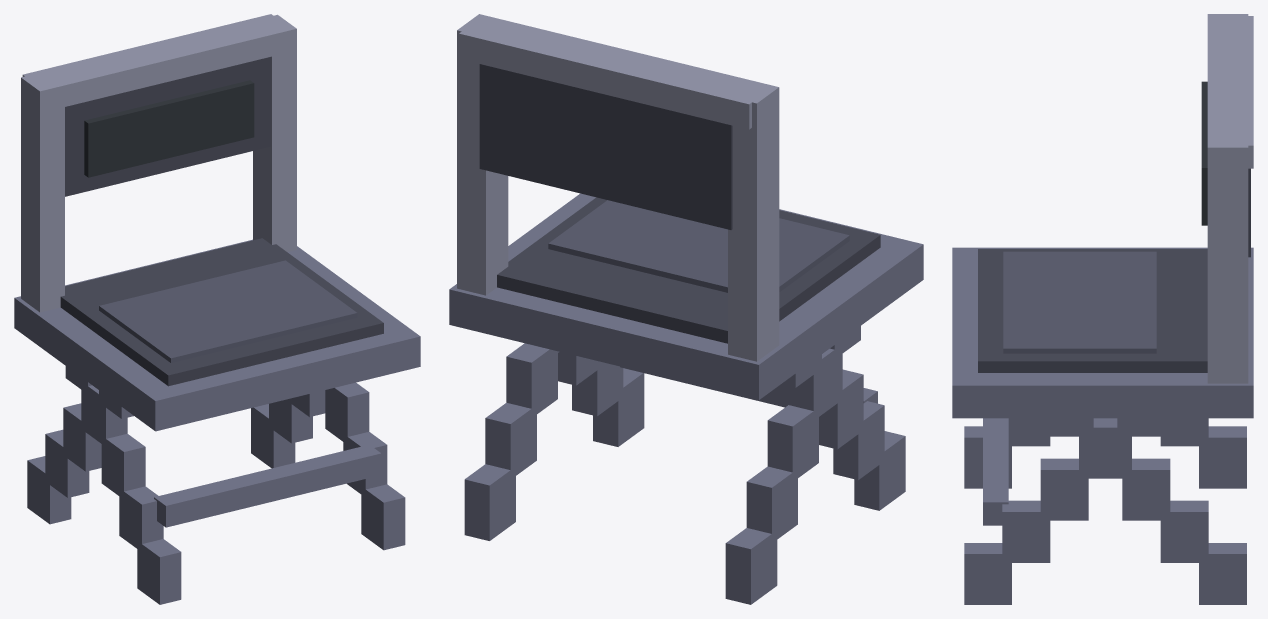
File: CMU3DFoldingChair.glb
The picture shows the model from 3 angles, left to right: view 1: azimuth 30°, elevation 25°; view 2: azimuth 150°, elevation 25°; view 3: azimuth 270°, elevation 25°; orthographic projection. The views are drawn at different scales.
Visible parts, largest first — view 1: stepped folding side rail (×13), seat frame, seat inset sheen, seat inset, back left upright, back inset shadow, back upper trim, back panel, front crossbar, back right upright; view 2: stepped folding side rail (×13), back panel, seat frame, seat inset, back upper trim, back left upright, seat inset sheen, back right upright, front crossbar; view 3: stepped folding side rail (×14), seat frame, seat inset sheen, seat inset, back right upright, back upper trim, front crossbar, back inset shadow, back left upright.
Boxes of the visible parts, bbox=[...] form: stepped folding side rail (×13): bbox=[27, 382, 405, 604]; seat frame: bbox=[14, 239, 420, 431]; seat inset sheen: bbox=[99, 260, 357, 362]; seat inset: bbox=[60, 238, 383, 386]; back left upright: bbox=[21, 72, 64, 312]; back inset shadow: bbox=[84, 80, 254, 177]; back upper trim: bbox=[22, 14, 292, 110]; back panel: bbox=[65, 57, 270, 196]; front crossbar: bbox=[154, 444, 381, 527]; back right upright: bbox=[253, 14, 296, 251]; stepped folding side rail (×13): bbox=[464, 343, 905, 604]; back panel: bbox=[479, 64, 732, 229]; seat frame: bbox=[449, 193, 923, 400]; seat inset: bbox=[497, 197, 880, 343]; back upper trim: bbox=[459, 16, 770, 129]; back left upright: bbox=[728, 80, 779, 361]; seat inset sheen: bbox=[548, 200, 849, 292]; back right upright: bbox=[457, 14, 508, 295]; front crossbar: bbox=[620, 366, 877, 407]; stepped folding side rail (×14): bbox=[964, 418, 1246, 604]; seat frame: bbox=[952, 247, 1253, 418]; seat inset sheen: bbox=[1003, 251, 1156, 353]; seat inset: bbox=[978, 249, 1207, 372]; back right upright: bbox=[1207, 134, 1248, 383]; back upper trim: bbox=[1207, 16, 1253, 168]; front crossbar: bbox=[983, 418, 1008, 525]; back inset shadow: bbox=[1201, 81, 1207, 225]; back left upright: bbox=[1207, 14, 1248, 26].
Bounding box in the file's own units: 0.64 × 0.995 × 0.59.
